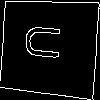U: (24, 22, 70, 62)
